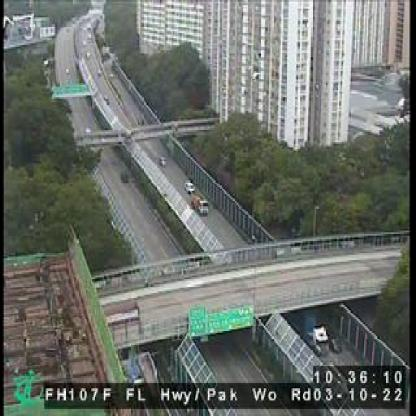Car: (329, 331, 342, 348), (183, 180, 195, 192), (158, 154, 166, 166)
Truck: (285, 308, 326, 352), (191, 196, 208, 215)
